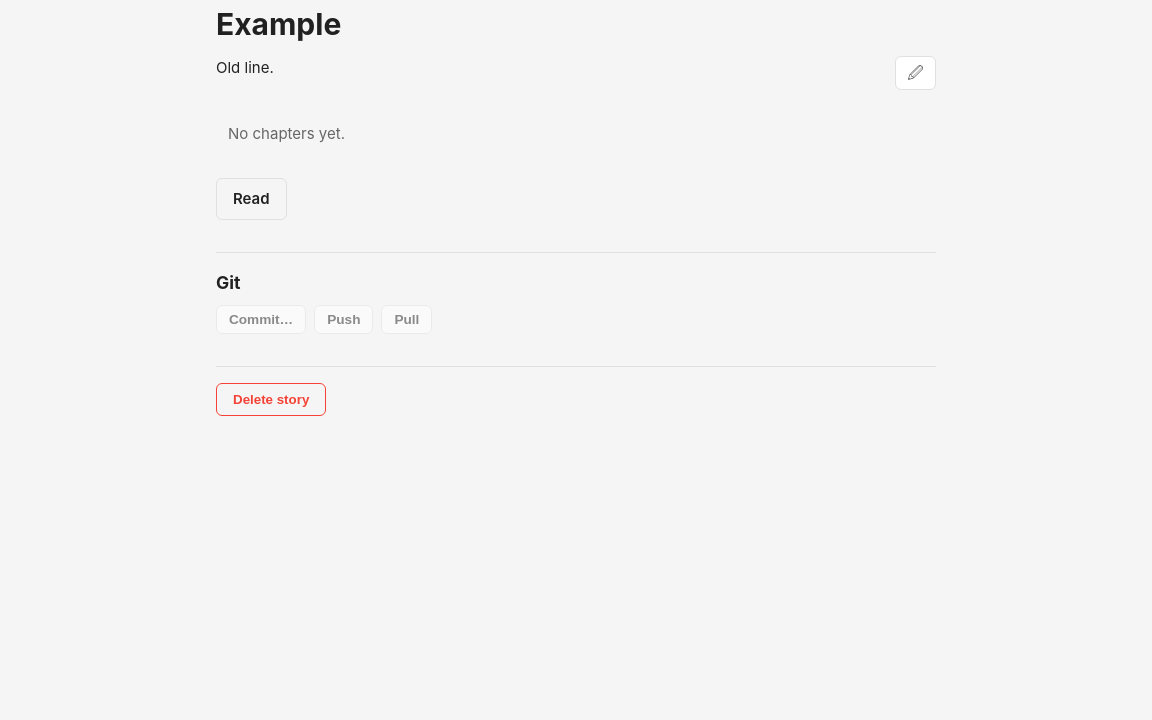
it: DashboardView.vue › editing the synopsis or the context › keeps the field open and shows the error when the save fails
Click the button named "Edit synopsis" at {"x": 916, "y": 73}, box [895,56,936,90]
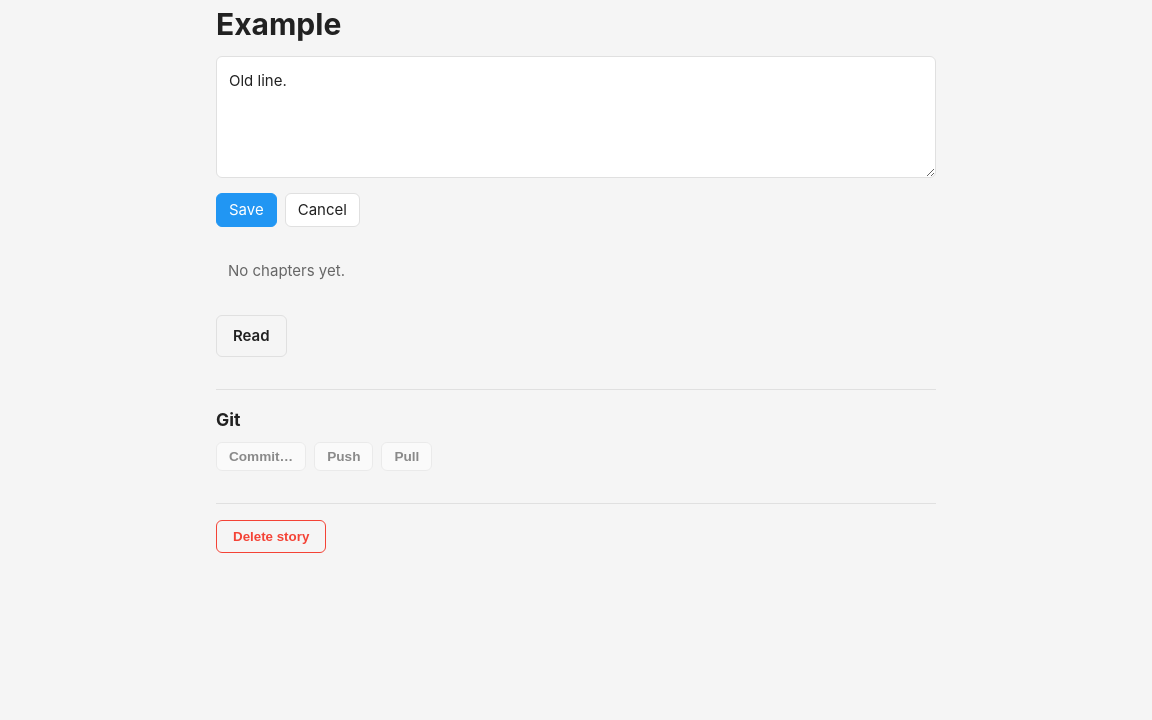
Click the button "Save" at {"x": 246, "y": 210}, box [216,193,277,227]
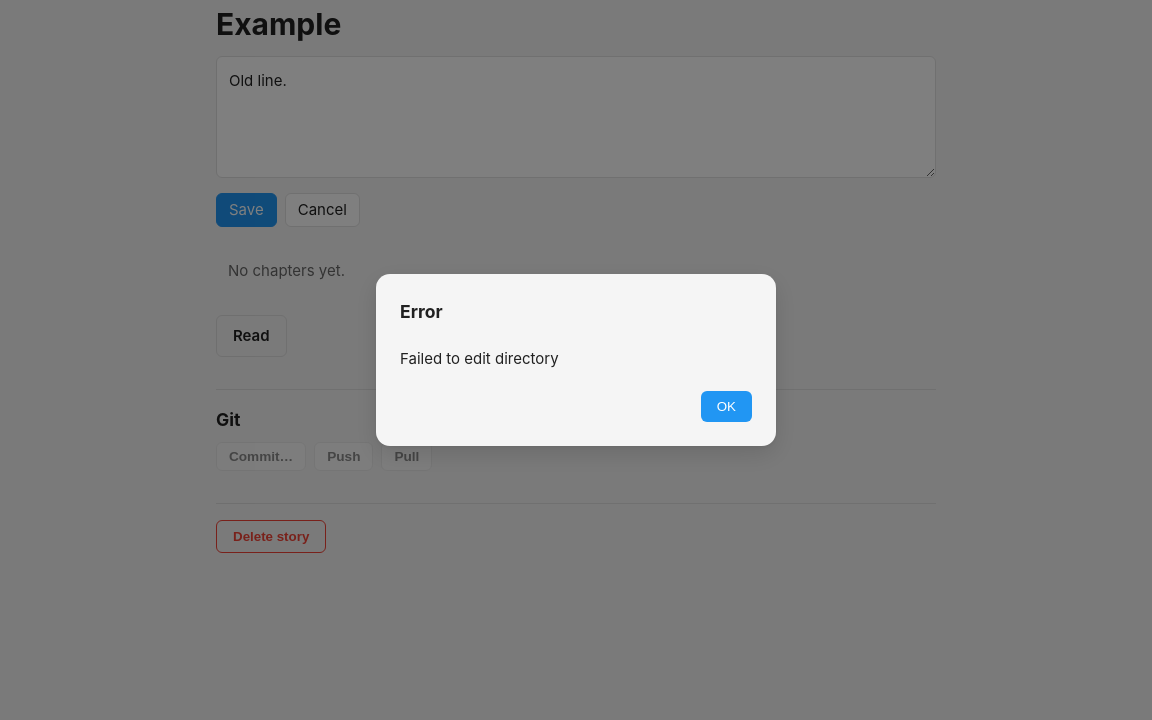
Result: the text box named "Edit synopsis" is shown at [216,56,936,178]
Result: the text "Failed to edit directory" is shown at [400,348,559,368]
